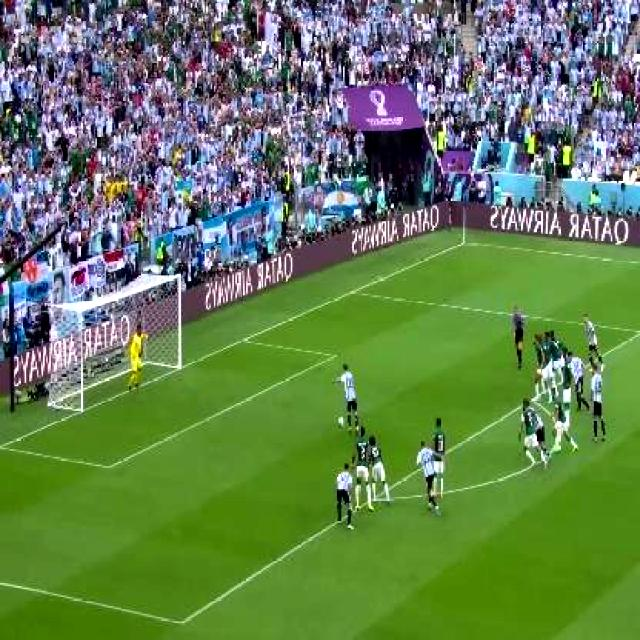bigarea_bottom_inner: (171, 603, 195, 639)
bigarea_top_inner: (632, 320, 640, 343)
bigarea_top_outter: (346, 283, 362, 299)
corner: (457, 235, 475, 248)
smallarea_bottom_inner: (100, 449, 123, 480)
smallarea_bottom_outter: (0, 432, 12, 459)
smallarea_top_inner: (328, 344, 344, 364)
smallarea_top_outter: (235, 329, 252, 349)
top_arc_area_intersection: (526, 389, 540, 408)
